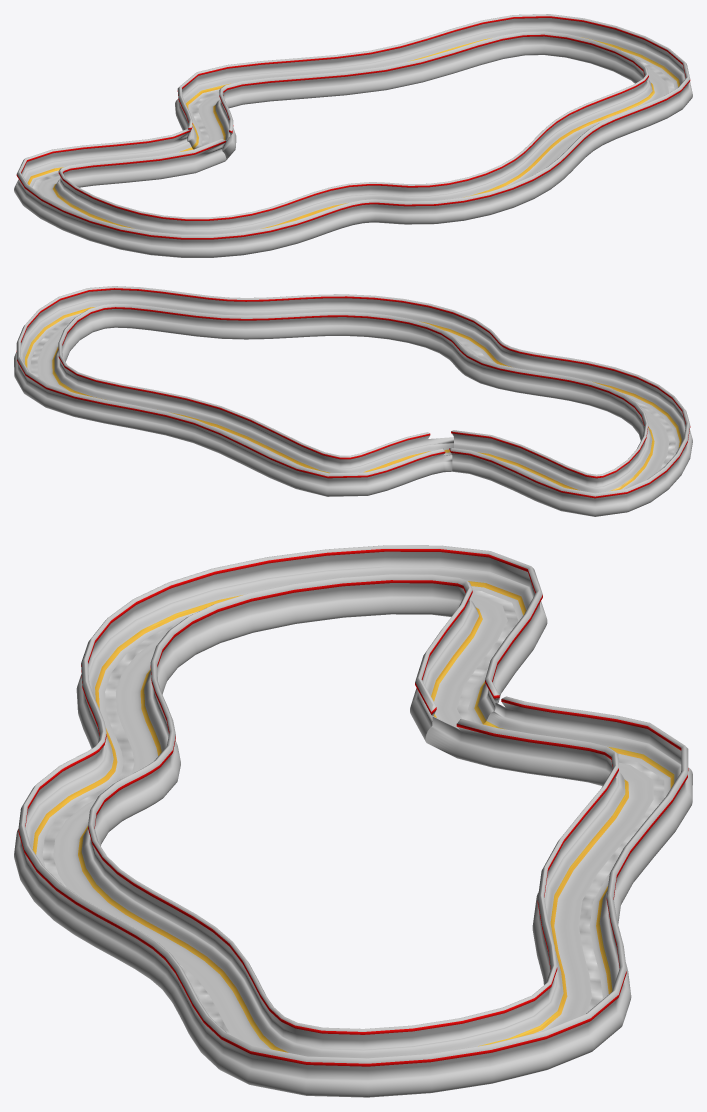
The model's file is Track.obj.
The picture shows the model from 3 angles, top to bottom: view 1: azimuth 30°, elevation 25°; view 2: azimuth 150°, elevation 25°; view 3: azimuth 270°, elevation 25°; orthographic projection. The views are drawn at different scales.
Parts seen in each view (by area): view 1: Loft001; view 2: Loft001; view 3: Loft001.
Part boxes in pixels (box(x1,y1,x2,y2)): Loft001: box(14, 14, 692, 257); Loft001: box(14, 286, 692, 516); Loft001: box(14, 545, 692, 1097).
Bounding box in the file's own units: 2792 × 103 × 1541.
